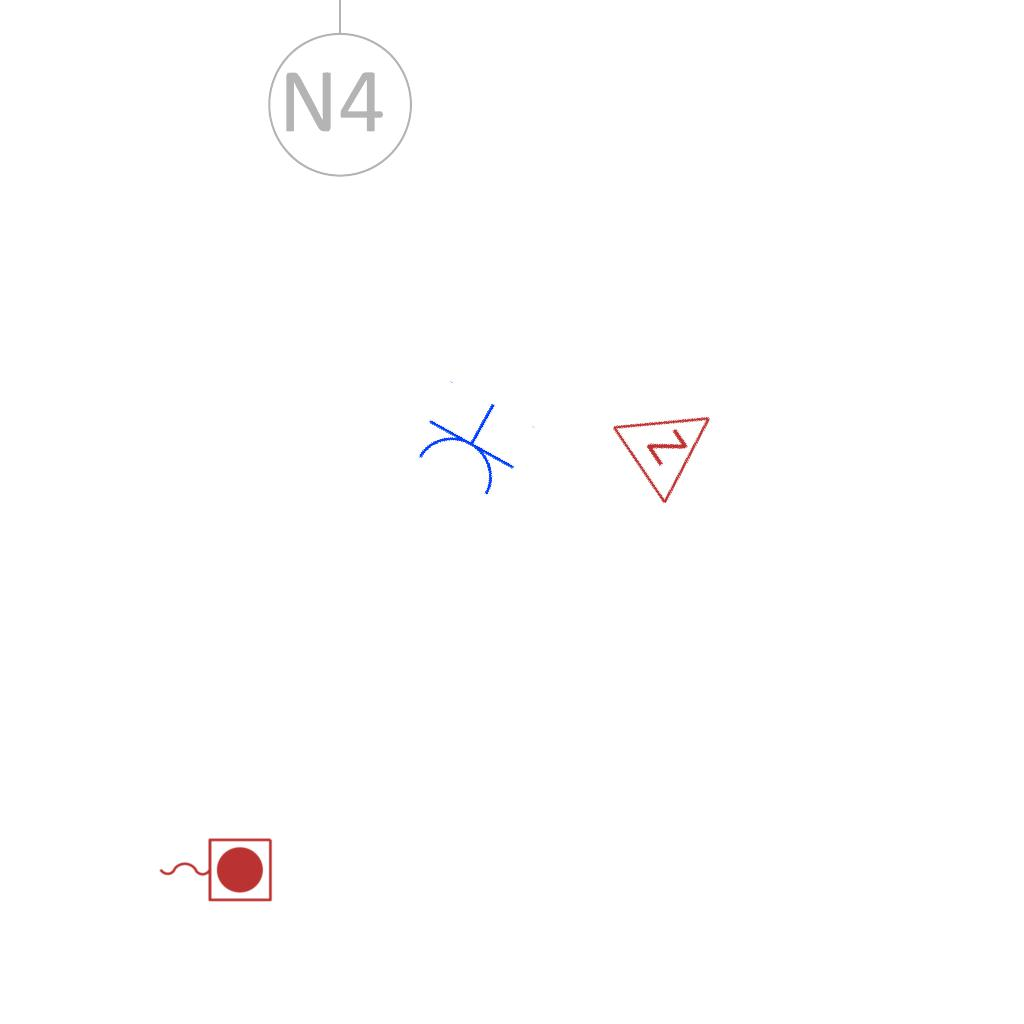Schukosteckdose_einfach: (407, 379, 537, 504)
Zimmersignalleuchte: (604, 372, 742, 510)
Zugtaster: (154, 833, 276, 905)
